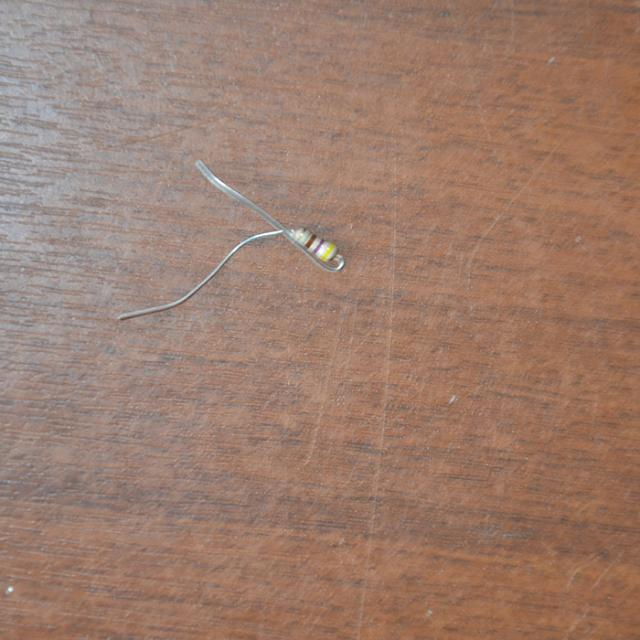brown: (304, 232, 315, 247)
gold: (294, 229, 306, 244)
resistor: (285, 221, 343, 270)
violet: (312, 240, 325, 254)
yellow: (319, 244, 335, 261)
